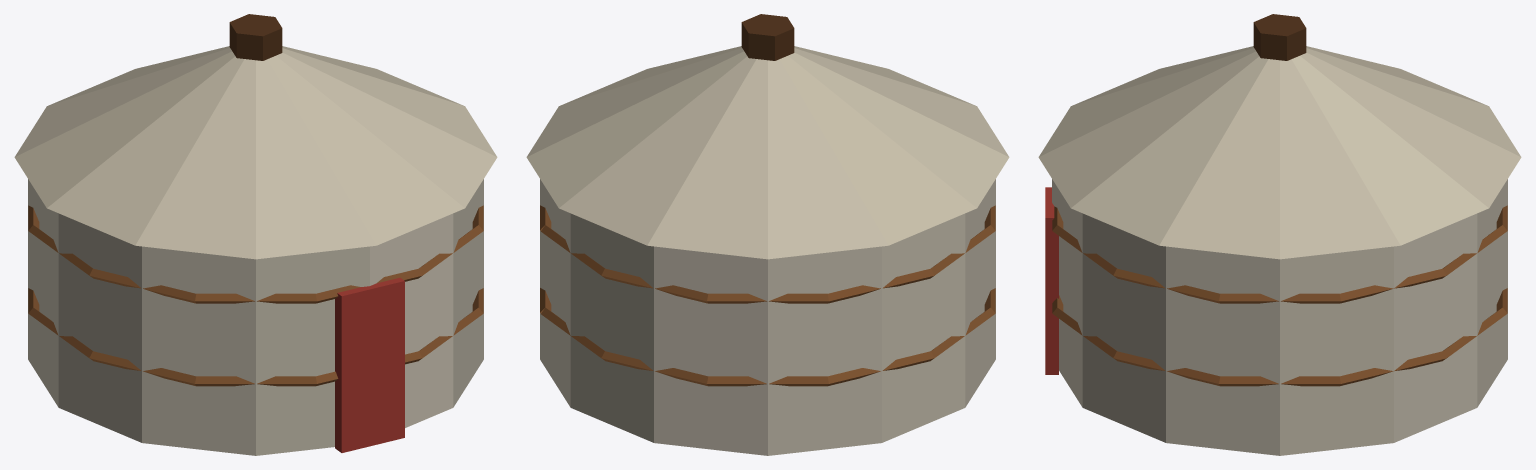
File: orc_house_a_broken.glb
3 views of the same model, side by side, from view 1: azimuth 30°, elevation 25°; view 2: azimuth 150°, elevation 25°; view 3: azimuth 270°, elevation 25° (orthographic).
Parts seen in each view (by area): view 1: orc_house_a_piece1, orc_house_a_piece9, orc_house_a_piece2, orc_house_a_piece4, orc_house_a_piece3, orc_house_a_piece0, orc_house_a_piece8, orc_house_a_piece6, orc_house_a_piece7, orc_house_a_piece5; view 2: orc_house_a_piece7, orc_house_a_piece4, orc_house_a_piece8, orc_house_a_piece9, orc_house_a_piece5, orc_house_a_piece0, orc_house_a_piece2, orc_house_a_piece3, orc_house_a_piece6, orc_house_a_piece1; view 3: orc_house_a_piece5, orc_house_a_piece3, orc_house_a_piece1, orc_house_a_piece7, orc_house_a_piece9, orc_house_a_piece6, orc_house_a_piece8, orc_house_a_piece2.
Part boxes in pixels (x1,y1,x2,y2): orc_house_a_piece1: [237, 59, 476, 452]; orc_house_a_piece9: [163, 14, 335, 410]; orc_house_a_piece2: [51, 256, 472, 455]; orc_house_a_piece4: [14, 74, 182, 394]; orc_house_a_piece3: [331, 60, 497, 451]; orc_house_a_piece0: [87, 55, 206, 386]; orc_house_a_piece8: [31, 64, 176, 131]; orc_house_a_piece6: [154, 55, 483, 376]; orc_house_a_piece7: [65, 46, 226, 98]; orc_house_a_piece5: [307, 52, 483, 358]; orc_house_a_piece7: [555, 84, 765, 445]; orc_house_a_piece4: [800, 102, 995, 452]; orc_house_a_piece8: [674, 125, 828, 455]; orc_house_a_piece9: [656, 14, 1001, 145]; orc_house_a_piece5: [526, 86, 679, 400]; orc_house_a_piece0: [765, 88, 1009, 227]; orc_house_a_piece2: [943, 200, 995, 416]; orc_house_a_piece3: [557, 60, 683, 108]; orc_house_a_piece6: [762, 92, 805, 131]; orc_house_a_piece1: [653, 49, 936, 89]; orc_house_a_piece5: [1152, 114, 1478, 455]; orc_house_a_piece3: [1045, 144, 1321, 411]; orc_house_a_piece1: [1038, 103, 1322, 312]; orc_house_a_piece7: [1330, 56, 1521, 411]; orc_house_a_piece9: [1057, 14, 1335, 139]; orc_house_a_piece6: [1132, 50, 1363, 442]; orc_house_a_piece8: [1345, 57, 1494, 115]; orc_house_a_piece2: [1093, 390, 1135, 429].
Size of the model in its own units: 2.12 by 1.62 by 2.12.
